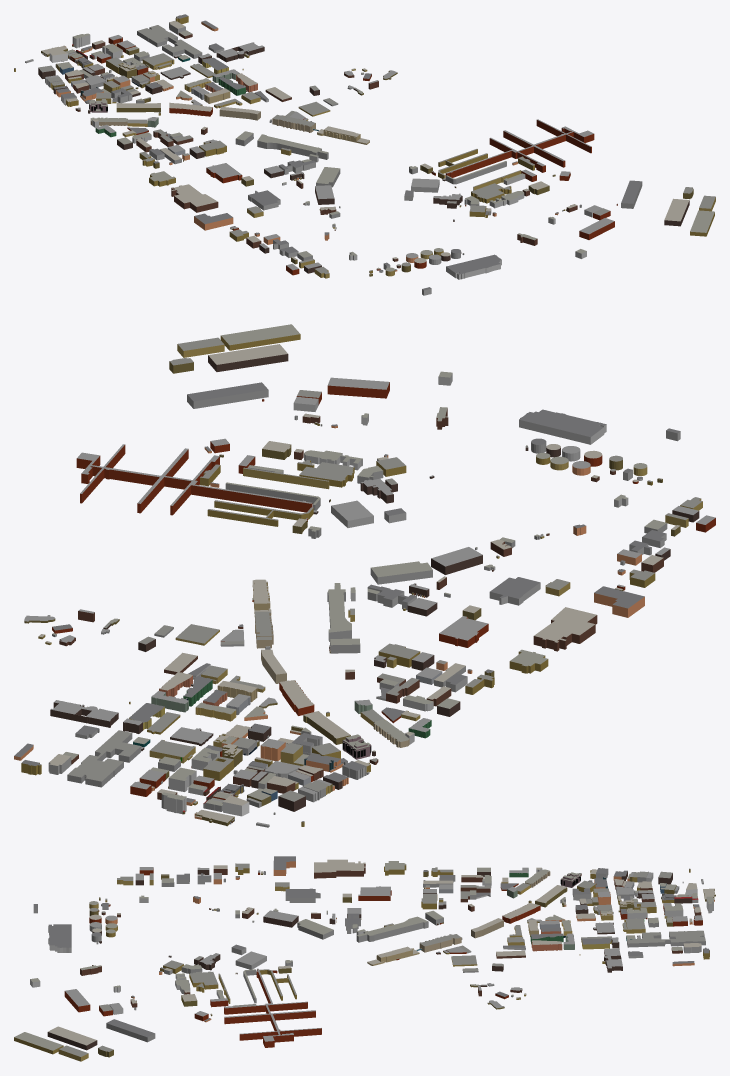
File: BGBuildings.fbx
The picture shows the model from 3 angles, top to bottom: view 1: azimuth 30°, elevation 25°; view 2: azimuth 150°, elevation 25°; view 3: azimuth 270°, elevation 25°; orthographic projection. The views are drawn at different scales.
Parts seen in each view (by area): view 1: map (3)_buildings; view 2: map (3)_buildings; view 3: map (3)_buildings.
Boxes of the visible parts, x1,y1,x2,y2 form: map (3)_buildings: (14, 14, 715, 295); map (3)_buildings: (14, 324, 715, 827); map (3)_buildings: (14, 856, 715, 1061).
Size of the model in its own units: 3593 by 78.03 by 5347.
